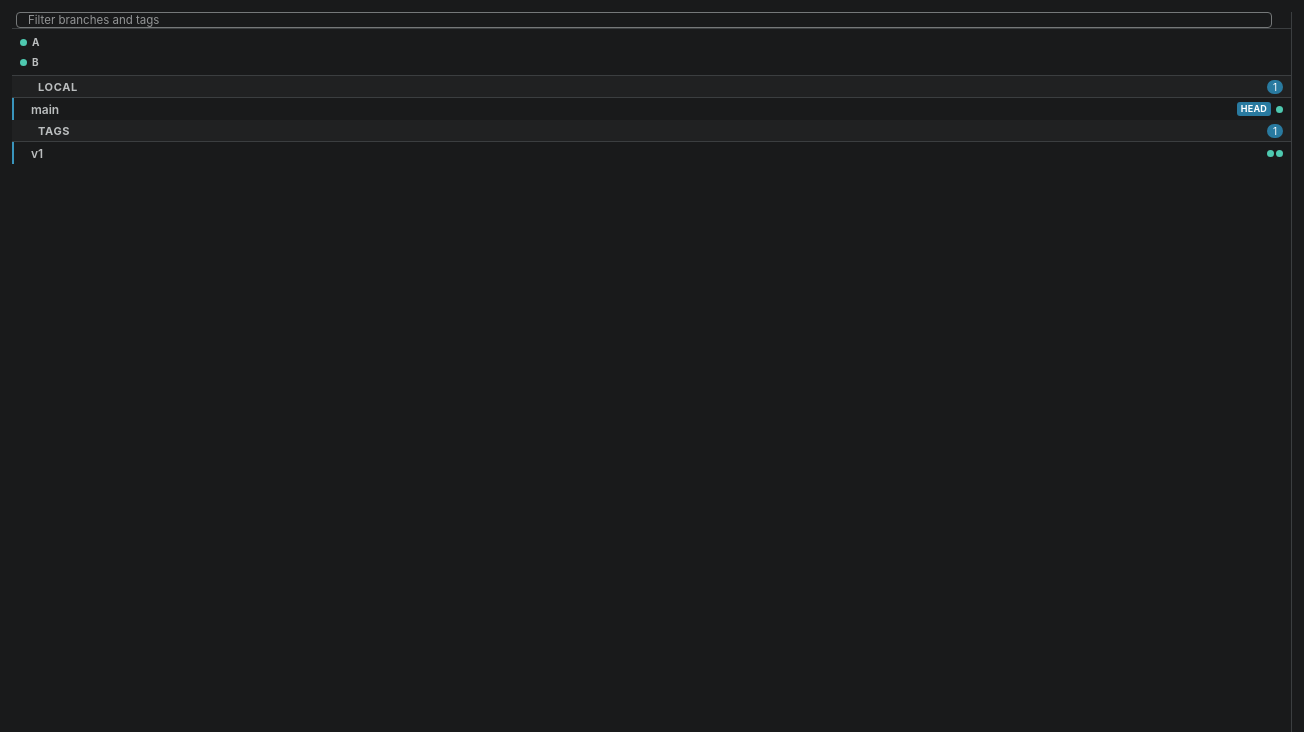
Test case: plugin sidebar interaction parity › hides tag deletion if any associated repository is detached on that tag
The image size is (1304, 732).
Right-click the button "v1" at (37, 153), box [12, 142, 1291, 164]
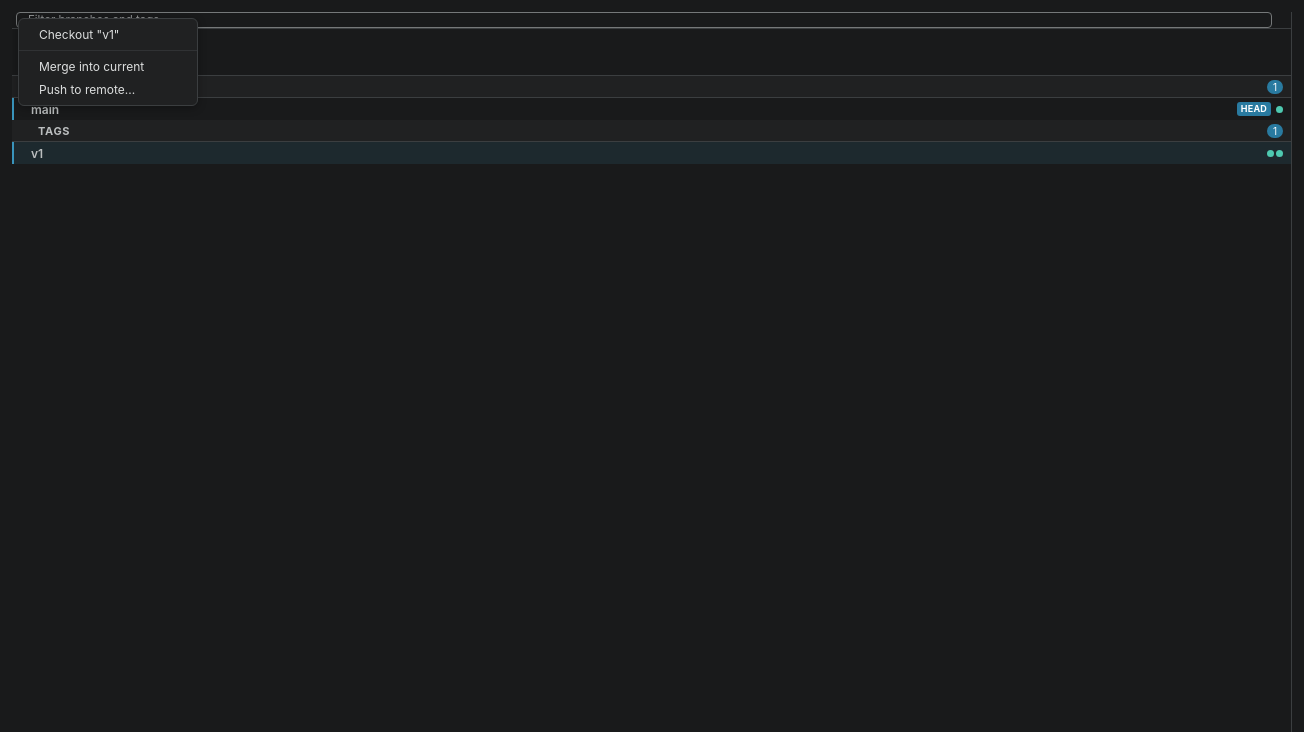
Check: the text "Merge into current" is shown, box [39, 59, 144, 74]
